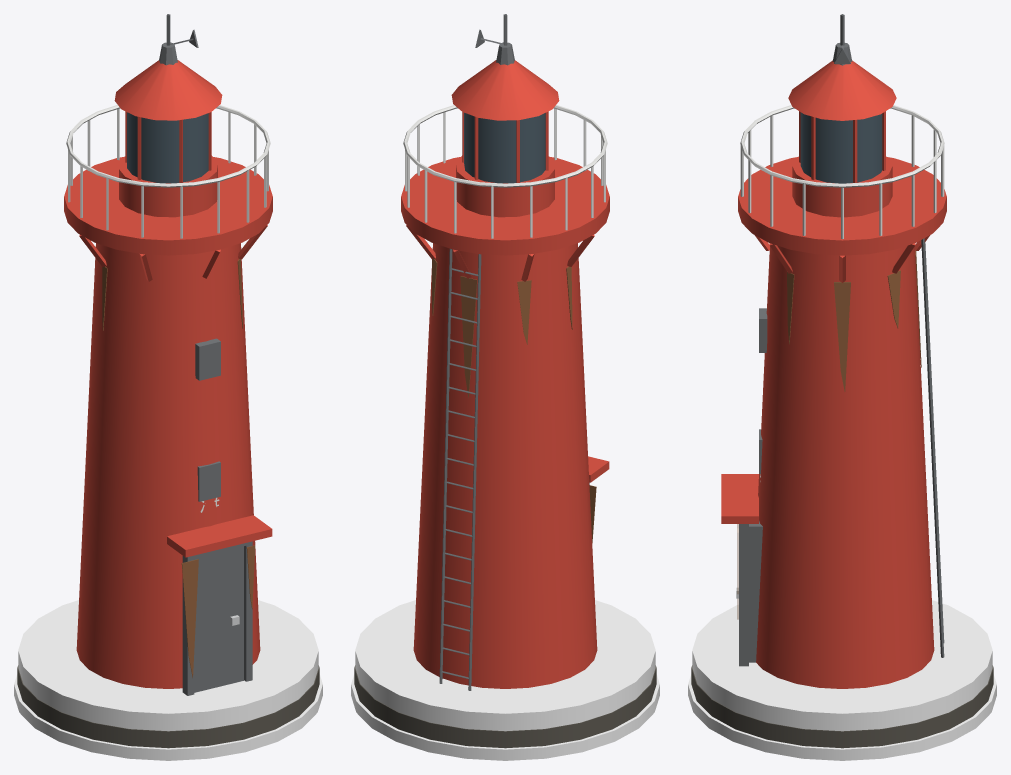
File: lighthouse_red.glb
The picture shows the model from 3 angles, left to right: view 1: azimuth 30°, elevation 25°; view 2: azimuth 150°, elevation 25°; view 3: azimuth 270°, elevation 25°; orthographic projection.
Parts seen in each view (by area): view 1: lighthouse_red_body; view 2: lighthouse_red_body; view 3: lighthouse_red_body.
Part boxes in pixels (x1,y1,x2,y2): lighthouse_red_body: [14, 14, 322, 760]; lighthouse_red_body: [351, 14, 659, 760]; lighthouse_red_body: [688, 14, 996, 760].
Bounding box in the file's own units: 3.7 × 9 × 3.7.
